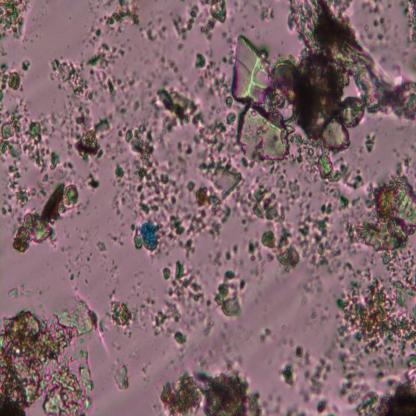Background material: (108, 112, 194, 254), (0, 298, 98, 414), (280, 54, 362, 153), (337, 254, 416, 356), (195, 125, 244, 233), (12, 179, 80, 256), (355, 171, 416, 251), (159, 370, 264, 416), (339, 357, 416, 415), (153, 260, 205, 345), (0, 104, 63, 170), (230, 33, 282, 111), (301, 204, 355, 274), (236, 105, 290, 166), (88, 43, 135, 94), (46, 59, 96, 106), (64, 108, 110, 158), (152, 88, 205, 131), (170, 1, 228, 38), (0, 162, 35, 218), (89, 1, 140, 38), (246, 179, 287, 225), (262, 226, 302, 272), (199, 61, 232, 108), (317, 154, 362, 188), (299, 272, 326, 326), (360, 0, 390, 48), (216, 269, 245, 318), (309, 354, 332, 414), (213, 329, 245, 372), (0, 0, 33, 41), (121, 284, 153, 326), (203, 240, 242, 270), (288, 128, 317, 168), (0, 61, 22, 101), (63, 262, 96, 287), (107, 300, 134, 328), (288, 383, 310, 416), (279, 174, 303, 202), (264, 387, 287, 416), (401, 1, 416, 44), (144, 17, 168, 41), (395, 148, 414, 176), (114, 363, 130, 391), (279, 360, 295, 388), (228, 0, 247, 23), (141, 353, 153, 388), (160, 56, 180, 76), (258, 324, 277, 344), (255, 4, 276, 22), (248, 239, 263, 264), (6, 282, 26, 298), (58, 159, 73, 179), (364, 132, 377, 153), (220, 26, 233, 47), (86, 173, 101, 190), (193, 52, 206, 70), (107, 265, 118, 283), (274, 163, 286, 177), (113, 166, 125, 179), (20, 58, 32, 71), (225, 110, 237, 123), (295, 345, 305, 360), (132, 235, 142, 250), (122, 327, 134, 339), (96, 240, 107, 253), (131, 97, 141, 111), (176, 40, 186, 53), (376, 160, 381, 165)
Cellulose filter fibre: (287, 0, 416, 121)
Fragment: (140, 221, 158, 251)
